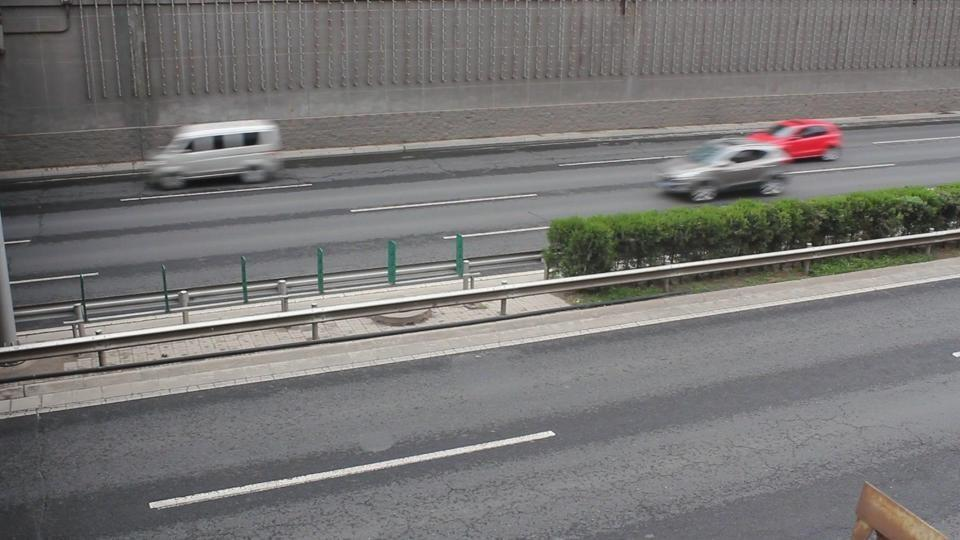car: (143, 120, 283, 191), (654, 139, 790, 202), (736, 119, 843, 163)
